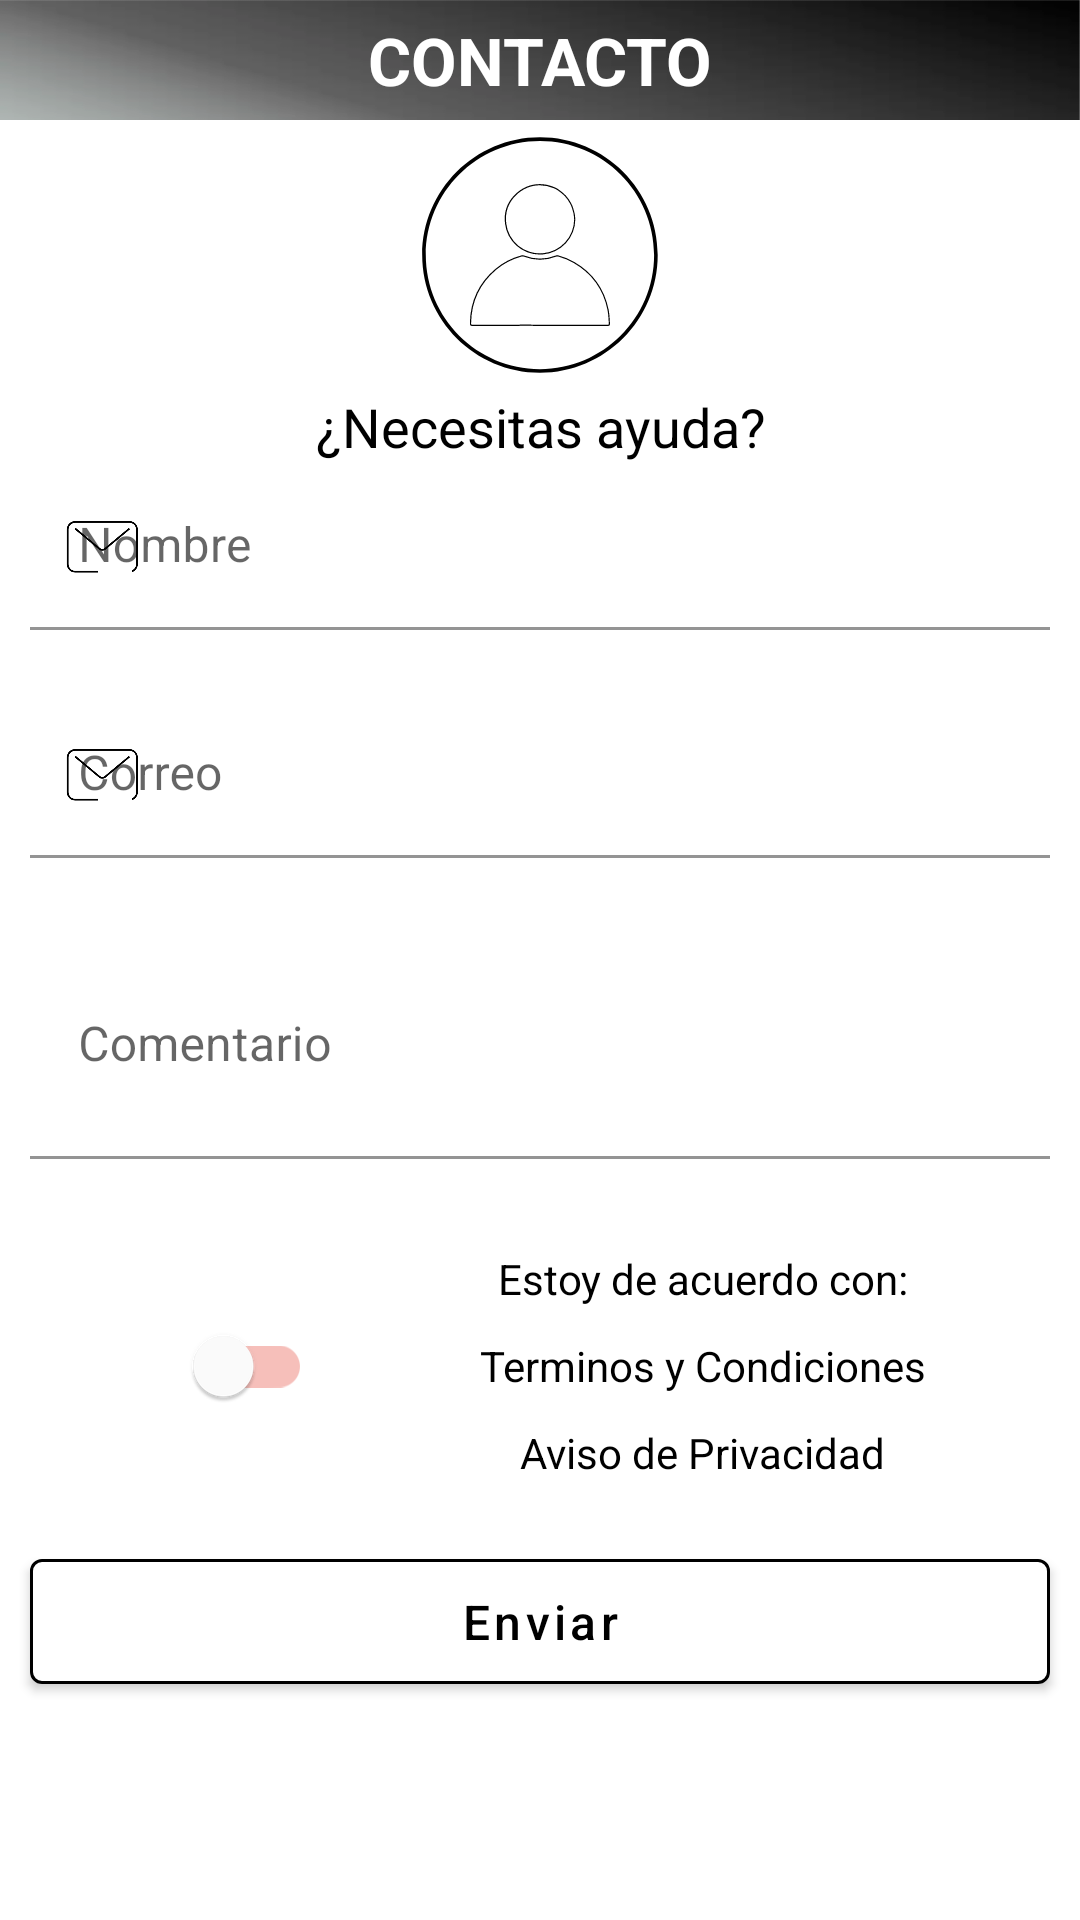

Icon click points for this 1080x1920 phone screenshot, format point (x, y):
acount: point (540, 255)
